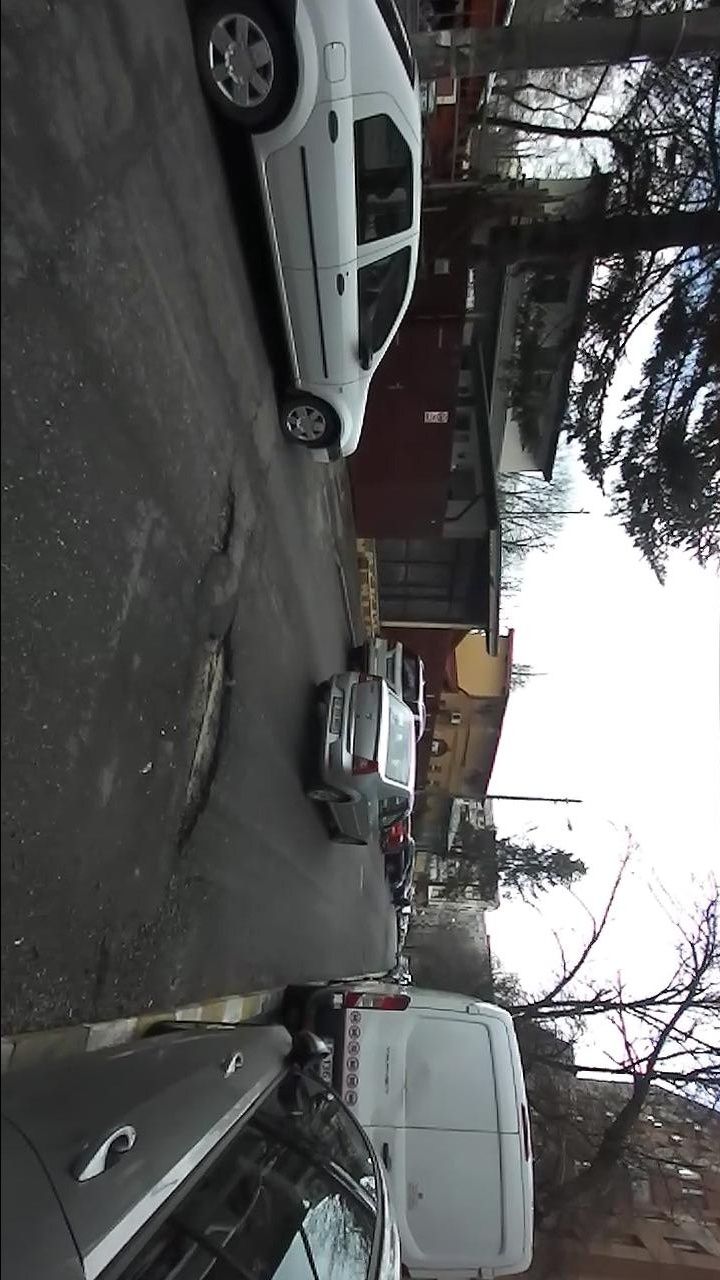pothole: (169, 623, 239, 860), (202, 477, 242, 573)
